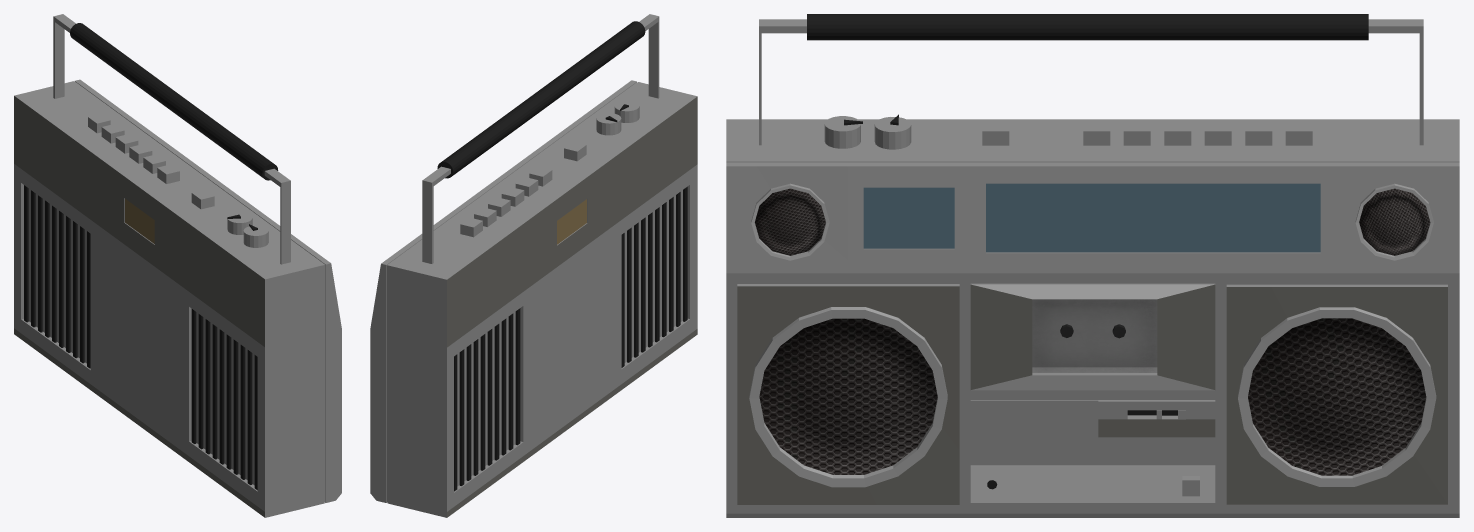
The model's file is boombox.fbx.
The picture shows the model from 3 angles, left to right: view 1: azimuth 30°, elevation 25°; view 2: azimuth 150°, elevation 25°; view 3: azimuth 270°, elevation 25°; orthographic projection. The views are drawn at different scales.
Visible parts, largest first — view 1: Cube.002; view 2: Cube.002; view 3: Cube.002.
Part boxes in pixels (x1=…): Cube.002: x1=14, y1=14, x2=341, y2=517; Cube.002: x1=370, y1=14, x2=697, y2=517; Cube.002: x1=726, y1=14, x2=1459, y2=517.
Size of the model in its own units: 56.79 by 201 by 281.
